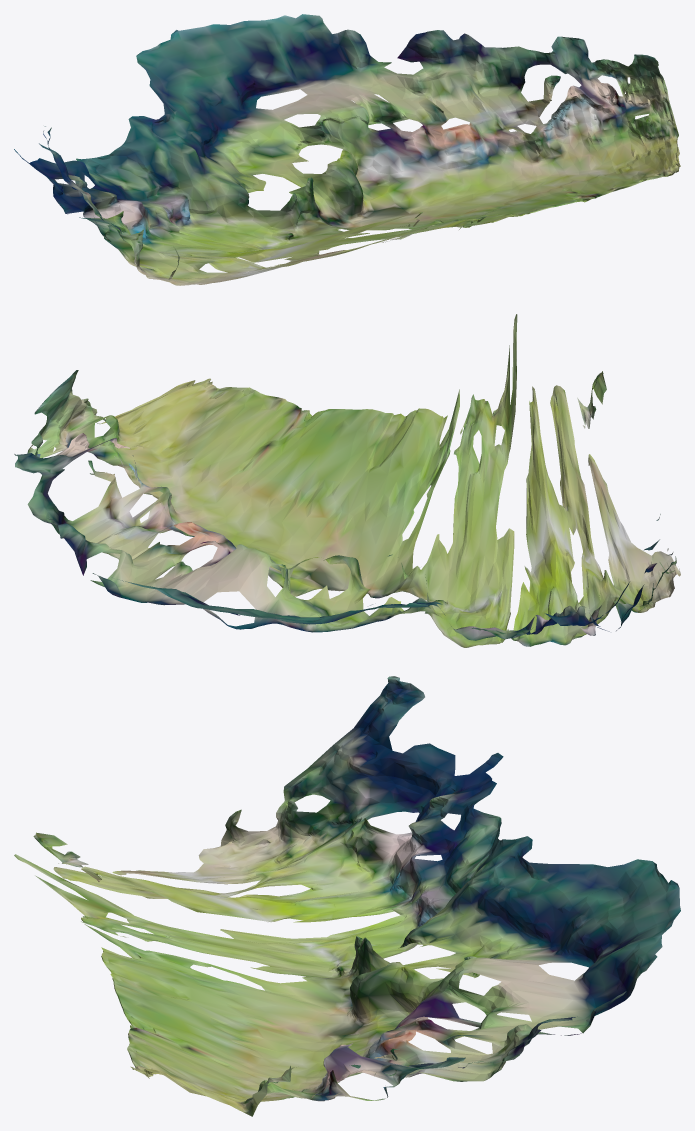
Rendered from render_lod2.glb.
3 renders of one model, top to bottom at view 1: azimuth 30°, elevation 25°; view 2: azimuth 150°, elevation 25°; view 3: azimuth 270°, elevation 25°, orthographic. The views are drawn at different scales.
Parts seen in each view (by area): view 1: geometry_0; view 2: geometry_0; view 3: geometry_0.
Boxes of the visible parts, x1,y1,x2,y2 form: geometry_0: (14,14,680,285); geometry_0: (14,314,680,647); geometry_0: (14,676,680,1116).
Size of the model in its own units: 33.79 by 8.6 by 29.29.
